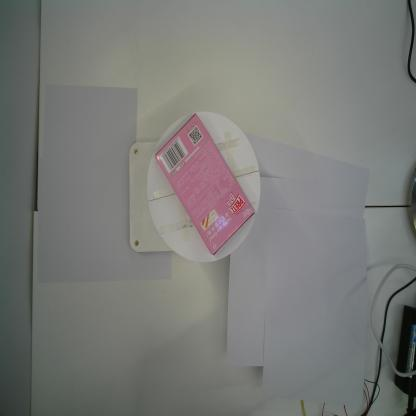Dessert: (154, 112, 256, 256)
